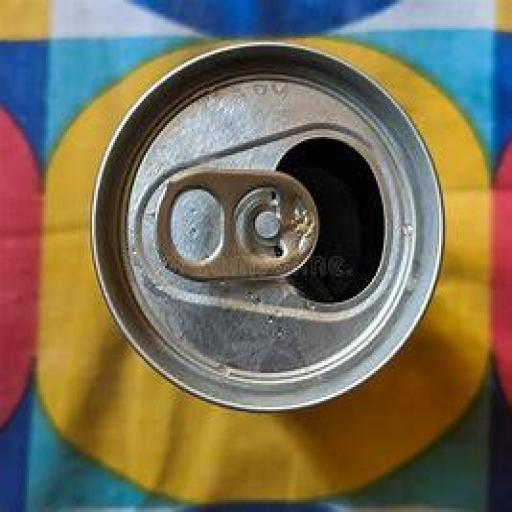can: (88, 42, 446, 414)
pop tab: (154, 167, 322, 282)
